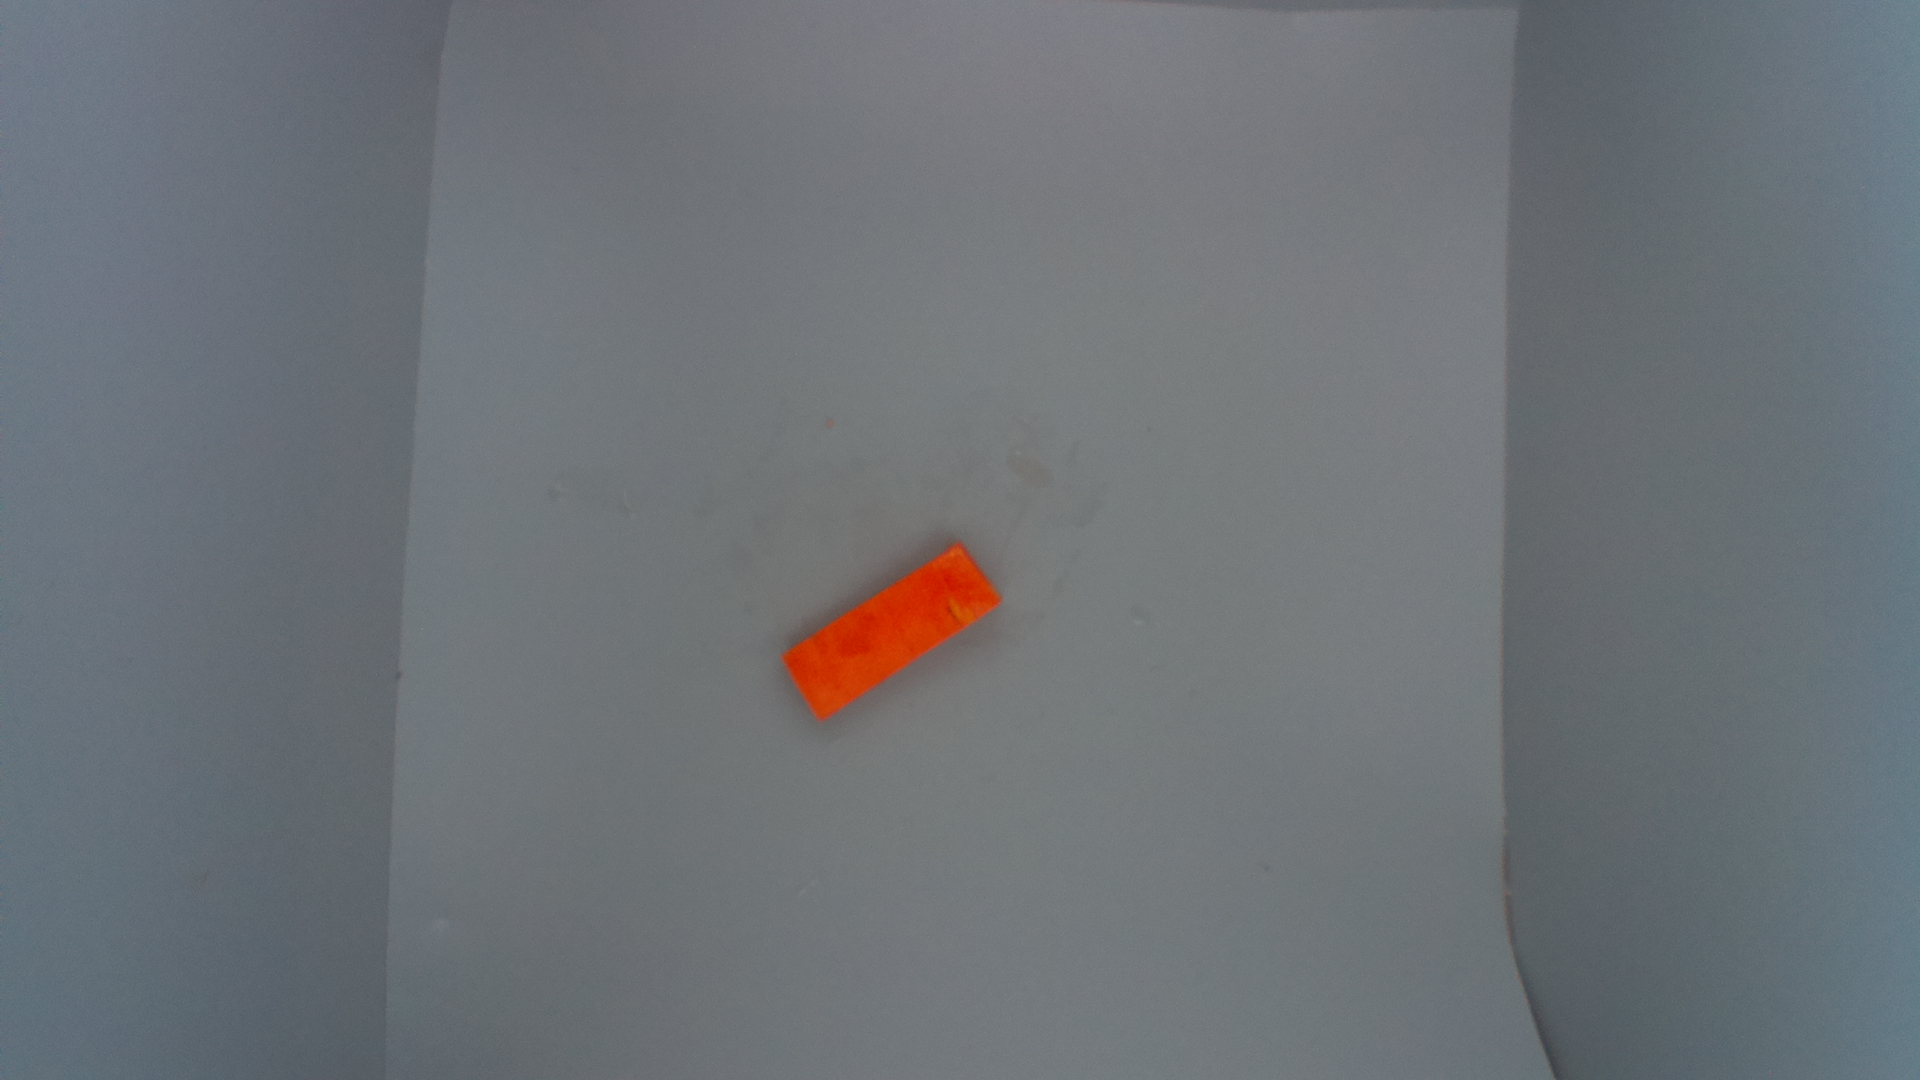carrot: (785, 543, 1010, 719)
